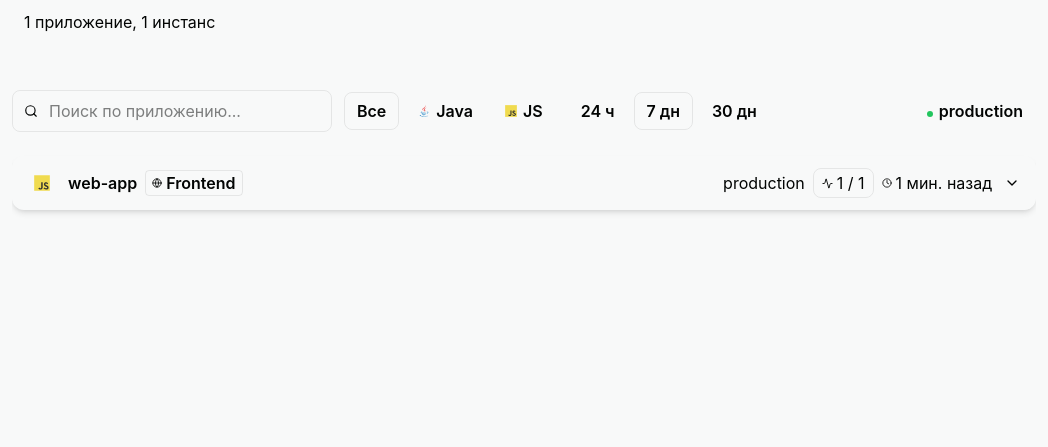
it: ClientInstances › shows empty message when the app attempted no activations
Click the text "web-app": click(103, 183) [68, 171, 137, 195]
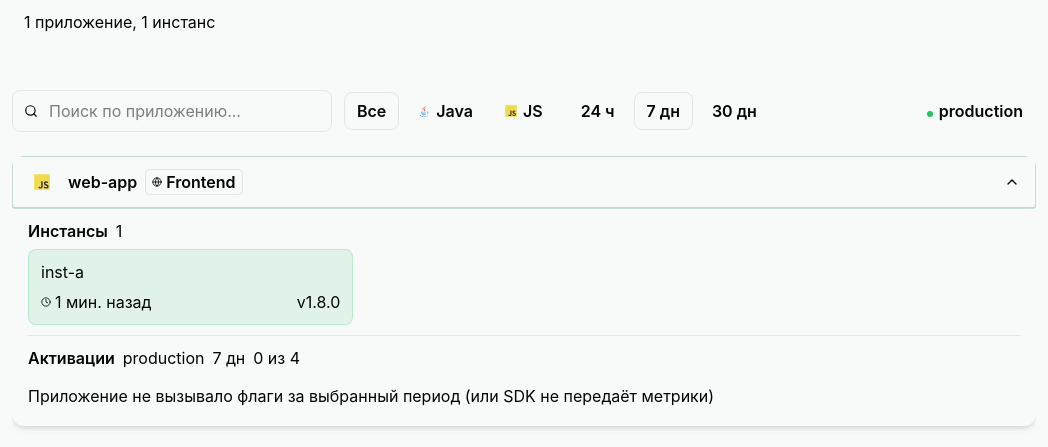
expect the text "Приложение не вызывало флаги за выбранный период (или SDK не передаёт метрики)" is shown: met, box [28, 386, 714, 406]
expect the text "0 из 4" is shown: met, box [253, 346, 300, 370]
